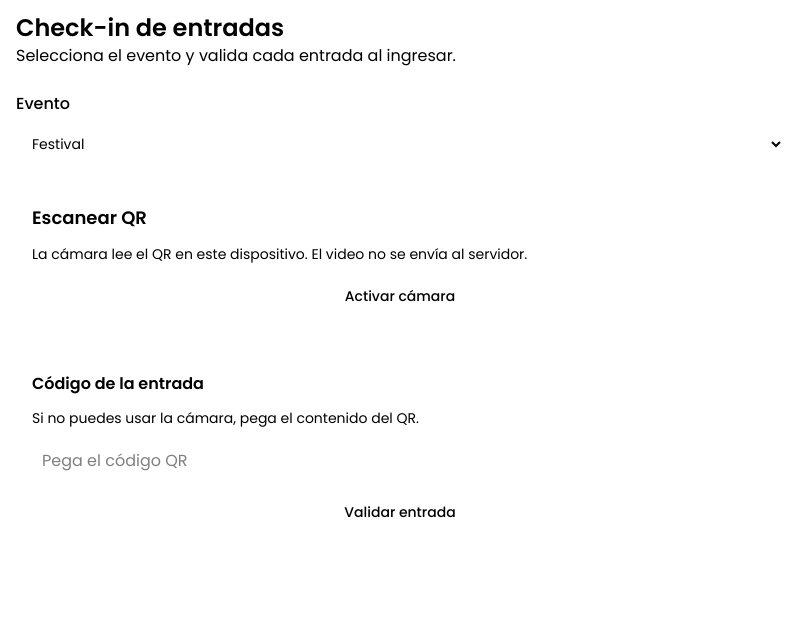
Test: Check-in con QR › un error HTTP 401 muestra el error sin inventar un resultado de entrada
The width and height of the screenshot is (798, 628).
Type "private-code" into the field labelled "Código de la entrada" at (400, 460), box [32, 440, 768, 480]
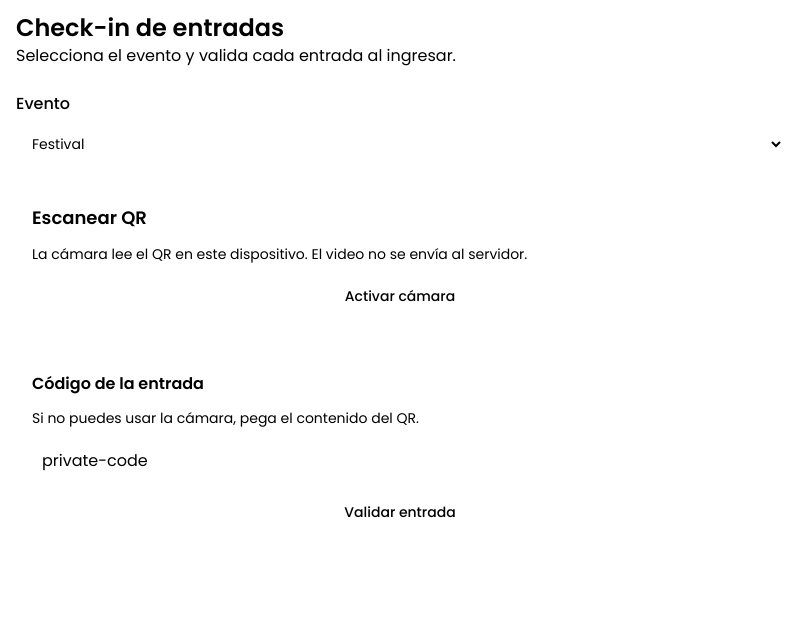
Click the button "Validar entrada" at (400, 512), box [32, 492, 768, 532]
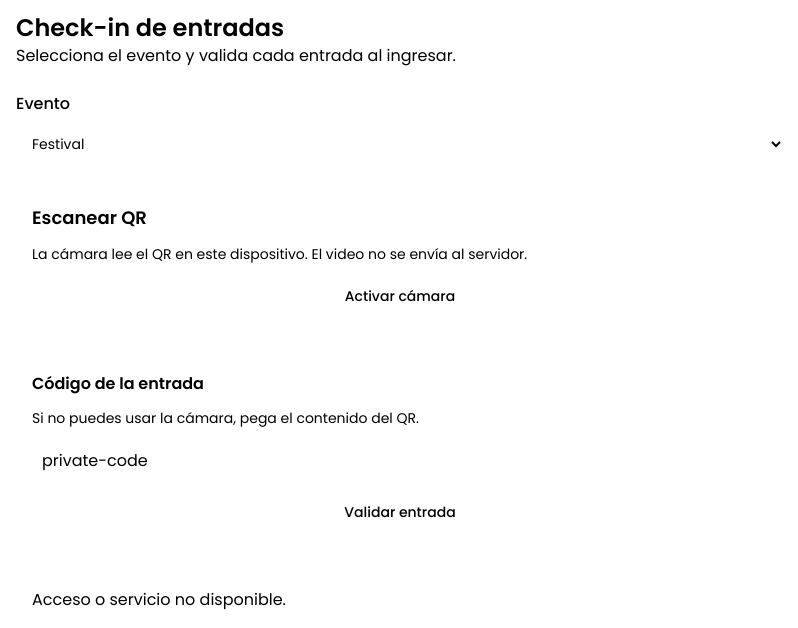
Expected: the message reads "Acceso o servicio no disponible.", [32, 588, 286, 611]
